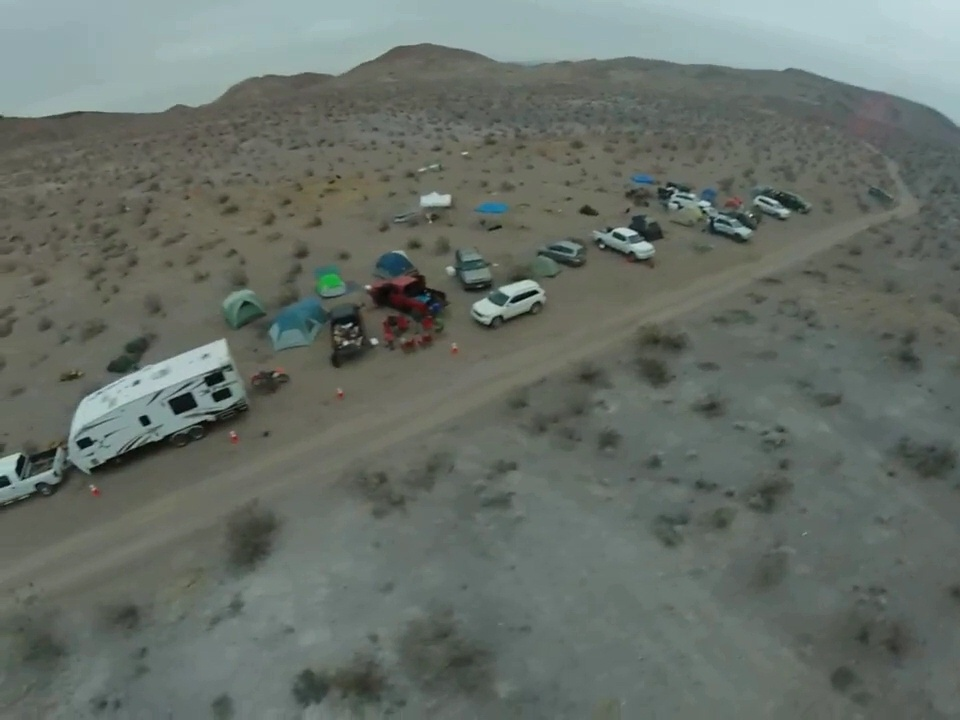araba: (469, 276, 553, 331), (453, 244, 495, 291), (706, 209, 757, 243), (536, 238, 592, 268), (670, 191, 717, 215), (751, 194, 794, 220)
kamyonet: (363, 270, 450, 325), (590, 222, 659, 266)
